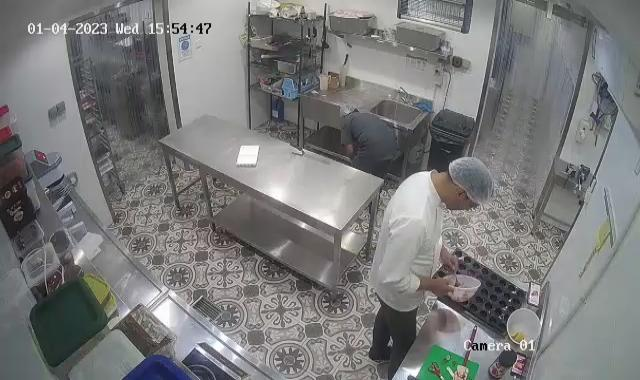hairnet: (443, 156, 493, 210)
